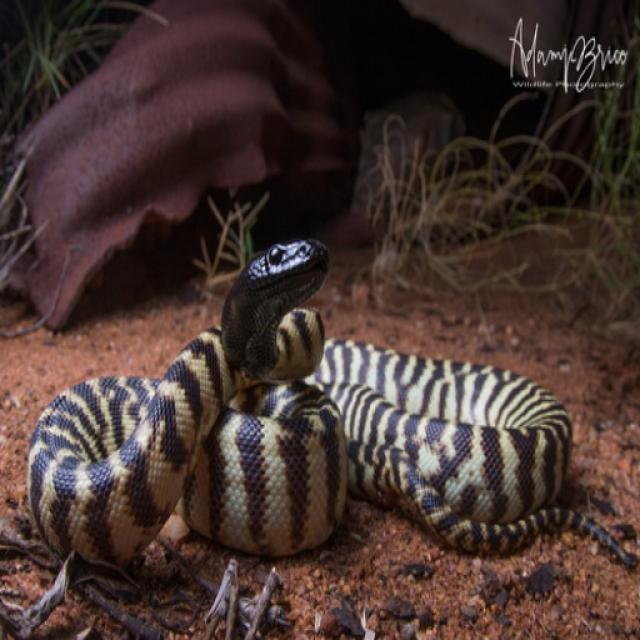snake: (25, 227, 594, 578)
